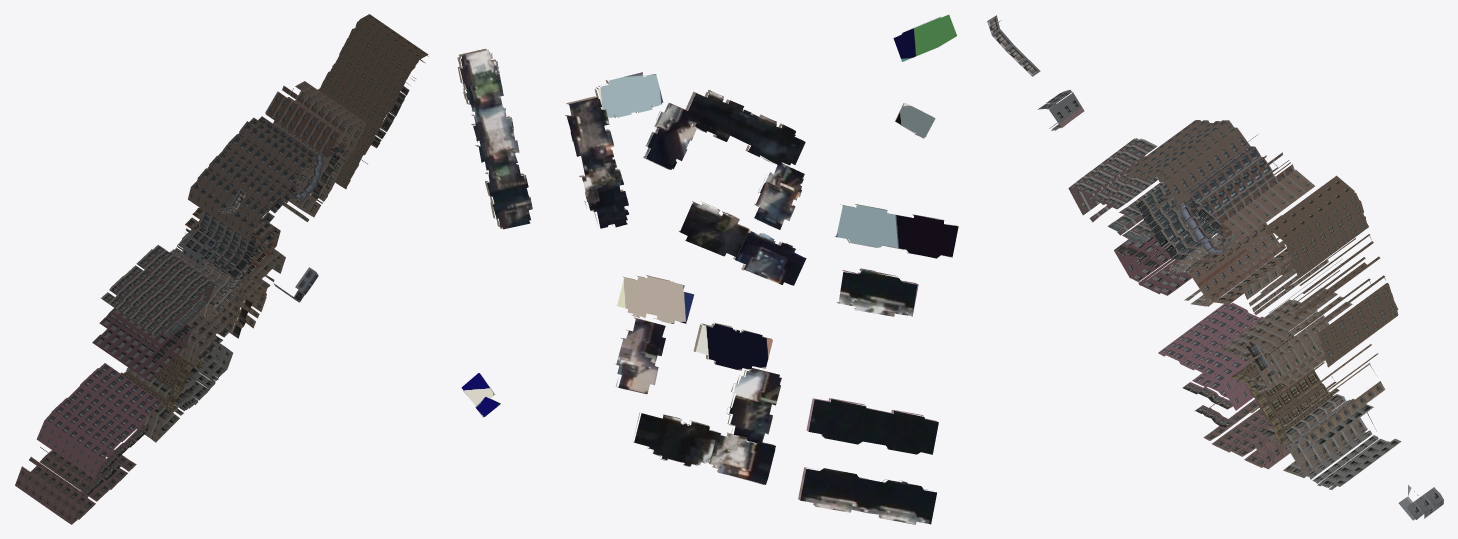
Rendered from tile_LOD4_r6_c3.glb.
The picture shows the model from 3 angles, left to right: view 1: azimuth 30°, elevation 25°; view 2: azimuth 150°, elevation 25°; view 3: azimuth 270°, elevation 25°; orthographic projection. The views are drawn at different scales.
Bounding box in the file's own units: 182 × 158 × 141.
100 materials, 100 textured.
